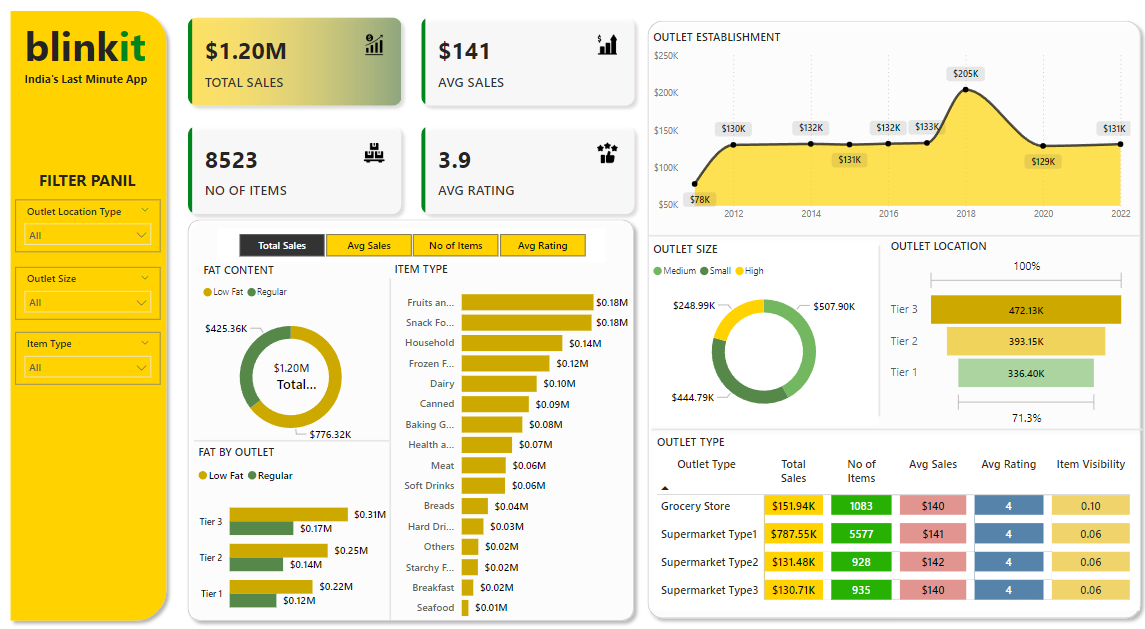

What the dashboard file says about the page in this screenshot:
{"tool":"powerbi","page":{"name":"Page 1","canvas":[1400,800],"ordinal":0},"visuals":[{"type":"shape","box":[16.5,25.5,205.6,750.4],"z":0},{"type":"textbox","box":[37.5,102.1,166.6,30],"z":1000},{"type":"textbox","box":[37.5,37.5,189.1,79.5],"z":2000},{"type":"cardVisual","fields":{"Data":["BlinkIT Grocery Data.Total Sales","BlinkIT Grocery Data.Avg Sales","BlinkIT Grocery Data.No of Items","BlinkIT Grocery Data.Avg Rating"]},"box":[222.1,25.5,570.3,270.2],"z":3000},{"type":"shape","box":[229.9,276.2,553.8,499.8],"z":4000},{"type":"donutChart","title":" FAT CONTENT","fields":{"Y":["BlinkIT Grocery Data.Total Sales"],"Category":["BlinkIT Grocery Data.Item Fat Content"]},"box":[252.1,336.2,220.6,231.1],"z":5000},{"type":"slicer","fields":{"Values":["Metrics.Metrics"]},"box":[274.7,295.7,465.3,40.5],"z":6000},{"type":"cardVisual","fields":{"Data":["BlinkIT Grocery Data.Total Sales"]},"box":[309.2,435.3,108.1,76.5],"z":7000},{"type":"clusteredBarChart","title":"FAT BY OUTLET","fields":{"Y":["BlinkIT Grocery Data.Total Sales"],"Category":["BlinkIT Grocery Data.Outlet Location Type"],"Series":["BlinkIT Grocery Data.Item Fat Content"]},"box":[246,556,236,220],"z":8000},{"type":"shape","box":[246.1,520.8,234.1,60],"z":9000},{"type":"shape","box":[463.8,355.7,36,410],"z":10000},{"type":"barChart","title":"ITEM TYPE","fields":{"Y":["BlinkIT Grocery Data.Total Sales"],"Category":["BlinkIT Grocery Data.Item Type"]},"box":[481.8,334.5,290.9,441.8],"z":11000},{"type":"shape","box":[781.6,37.5,609.7,735.4],"z":12000},{"type":"lineChart","title":"OUTLET ESTABLISHMENT","fields":{"Category":["BlinkIT Grocery Data.Outlet Establishment Year"],"Y":["BlinkIT Grocery Data.Total Sales"]},"box":[792.2,56.7,583.3,238.9],"z":13000},{"type":"shape","box":[792.2,274.4,590,60],"z":14000},{"type":"donutChart","title":" OUTLET SIZE","fields":{"Y":["BlinkIT Grocery Data.Total Sales"],"Category":["BlinkIT Grocery Data.Outlet Size"]},"box":[792.5,311.2,276.2,221.2],"z":15000},{"type":"shape","box":[1050,316,37,205],"z":16000},{"type":"funnel","title":"OUTLET LOCATION","fields":{"Y":["Sum(BlinkIT Grocery Data.Sales)"],"Category":["BlinkIT Grocery Data.Outlet Location Type"]},"box":[1077,307,292,230],"z":17000},{"type":"shape","box":[795,507,590,60],"z":18000},{"type":"pivotTable","title":"OUTLET TYPE","fields":{"Rows":["BlinkIT Grocery Data.Outlet Type"],"Values":["BlinkIT Grocery Data.Total Sales","BlinkIT Grocery Data.No of Items","BlinkIT Grocery Data.Avg Sales","BlinkIT Grocery Data.Avg Rating","Avg(BlinkIT Grocery Data.Item Visibility)"]},"box":[797,544,585,211],"z":19000},{"type":"slicer","fields":{"Values":["BlinkIT Grocery Data.Outlet Location Type"]},"box":[31,261,174,63],"z":20000},{"type":"slicer","fields":{"Values":["BlinkIT Grocery Data.Outlet Size"]},"box":[32,342,174,63],"z":21000},{"type":"slicer","fields":{"Values":["BlinkIT Grocery Data.Item Type"]},"box":[32,420,174,63],"z":22000},{"type":"textbox","box":[28,220,178,42],"z":23000}]}

Visuals, with their boxes on the page's 1400x800 design canvas (x1, y1, x2, y2). These are canvas units, not pixel positions in the 1145x629 screenshot, which may show the page scaled, cropped or inside an application window:
shape: BBox(16, 26, 222, 776)
textbox: BBox(38, 102, 204, 132)
textbox: BBox(38, 38, 227, 117)
cardVisual - BlinkIT Grocery Data.Total Sales x BlinkIT Grocery Data.Avg Sales: BBox(222, 26, 792, 296)
shape: BBox(230, 276, 784, 776)
" FAT CONTENT" donutChart: BBox(252, 336, 473, 567)
slicer - Metrics.Metrics: BBox(275, 296, 740, 336)
cardVisual - BlinkIT Grocery Data.Total Sales: BBox(309, 435, 417, 512)
"FAT BY OUTLET" clusteredBarChart: BBox(246, 556, 482, 776)
shape: BBox(246, 521, 480, 581)
shape: BBox(464, 356, 500, 766)
"ITEM TYPE" barChart: BBox(482, 334, 773, 776)
shape: BBox(782, 38, 1391, 773)
"OUTLET ESTABLISHMENT" lineChart: BBox(792, 57, 1376, 296)
shape: BBox(792, 274, 1382, 334)
" OUTLET SIZE" donutChart: BBox(792, 311, 1069, 532)
shape: BBox(1050, 316, 1087, 521)
"OUTLET LOCATION" funnel: BBox(1077, 307, 1369, 537)
shape: BBox(795, 507, 1385, 567)
"OUTLET TYPE" pivotTable: BBox(797, 544, 1382, 755)
slicer - BlinkIT Grocery Data.Outlet Location Type: BBox(31, 261, 205, 324)
slicer - BlinkIT Grocery Data.Outlet Size: BBox(32, 342, 206, 405)
slicer - BlinkIT Grocery Data.Item Type: BBox(32, 420, 206, 483)
textbox: BBox(28, 220, 206, 262)
